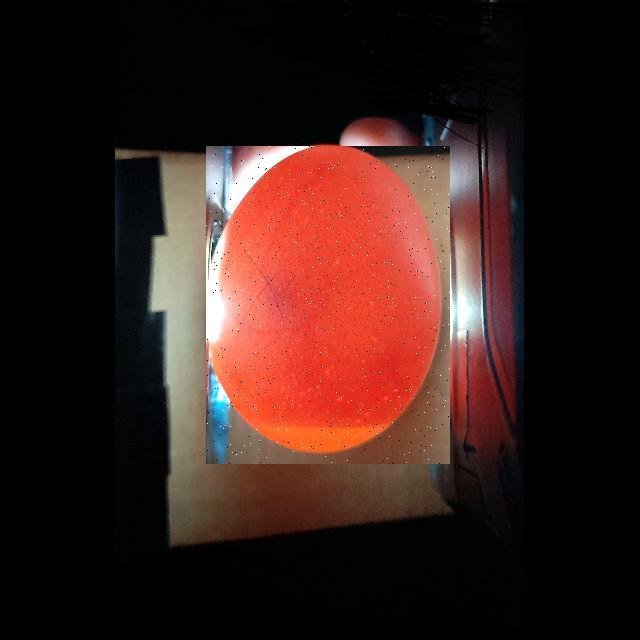Fertile: (206, 146, 450, 464)
